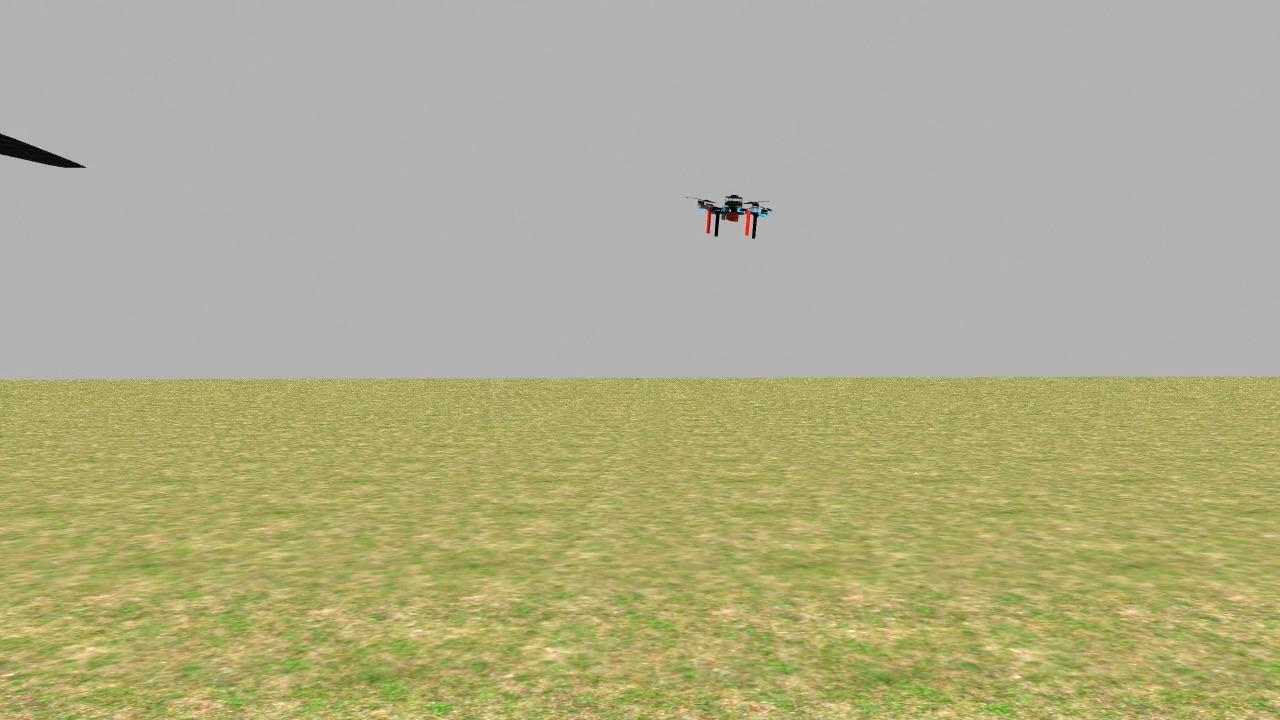UAV: (691, 190, 775, 241)
